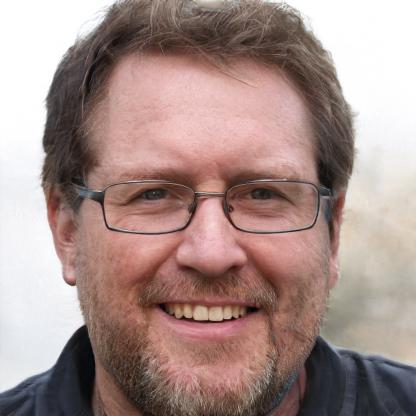glasses: (86, 172, 328, 238)
